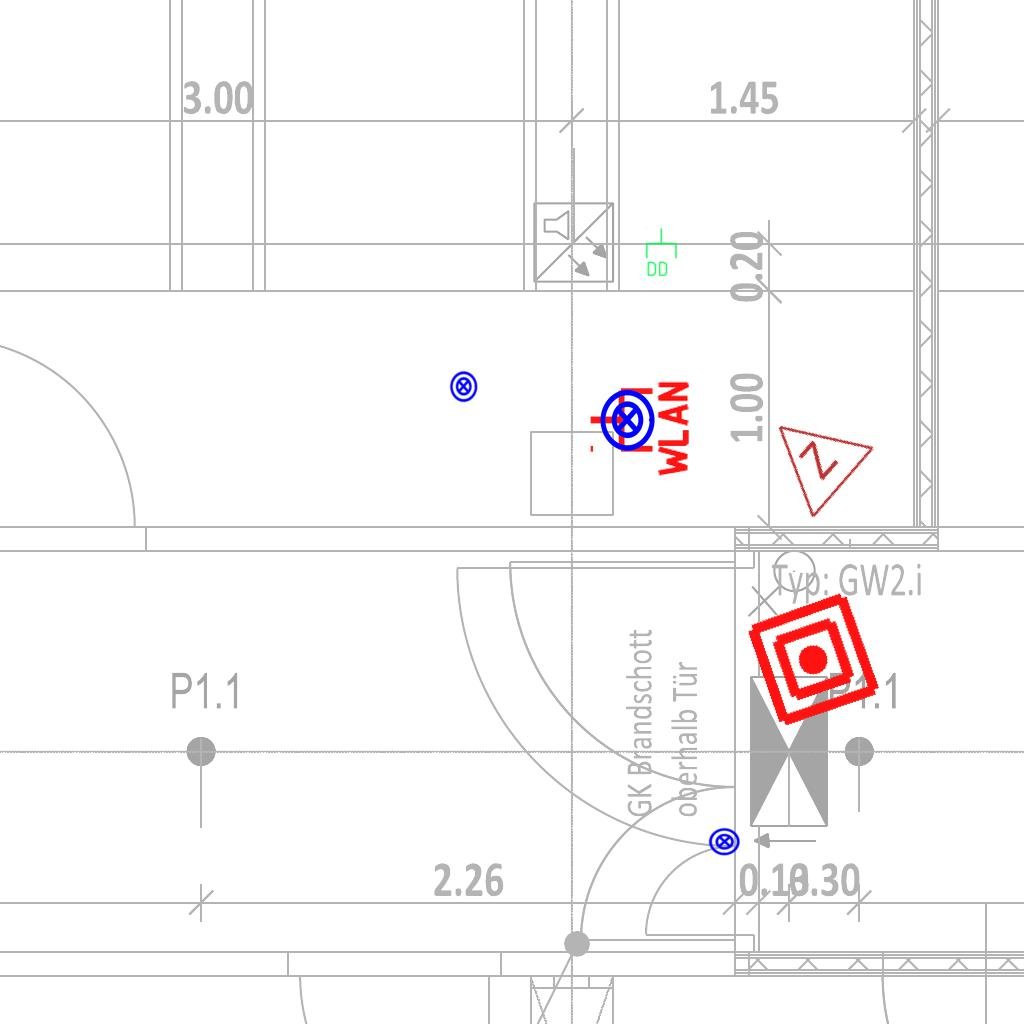Datenanschluss_zweifach: (644, 227, 678, 278)
NAM-Nichtautomatischer_Melder: (741, 587, 886, 732)
Taster_beleuchtet: (594, 387, 660, 453), (447, 370, 480, 403), (708, 825, 741, 858)
WLAN: (586, 377, 691, 481)
Zimmersignalleuchte: (741, 386, 881, 526)
